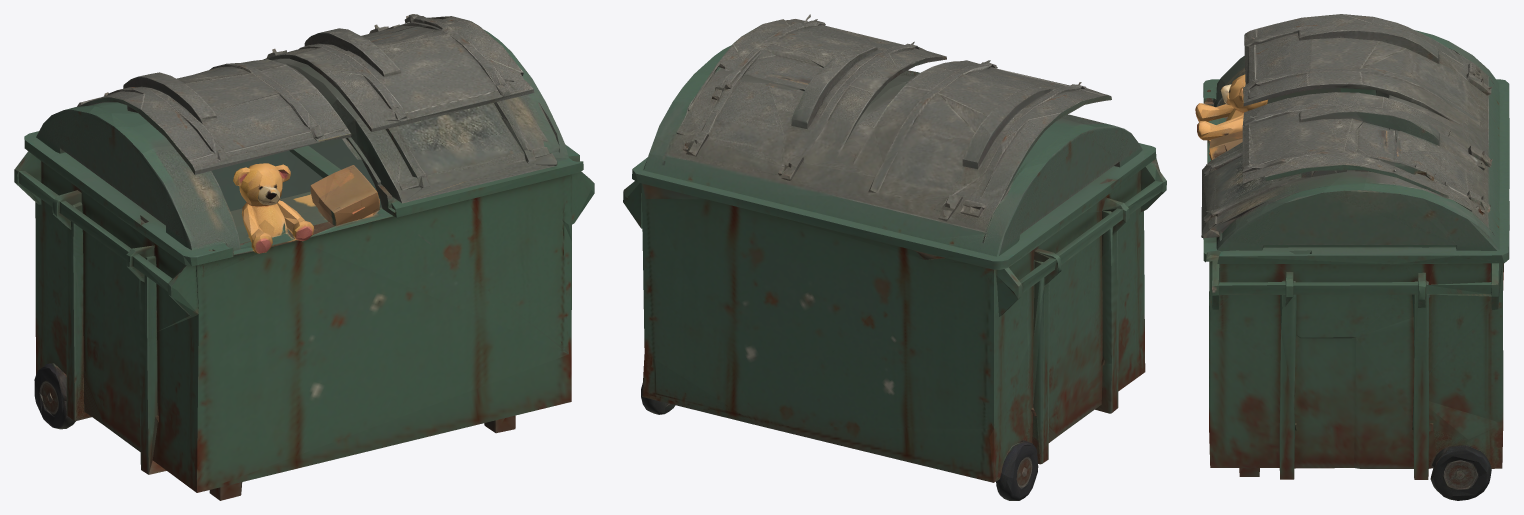
The picture shows the model from 3 angles, left to right: view 1: azimuth 30°, elevation 25°; view 2: azimuth 150°, elevation 25°; view 3: azimuth 270°, elevation 25°; orthographic projection. The views are drawn at different scales.
Bounding box in the file's own units: 1.9 × 1.55 × 1.34.
Materials: 1 (1 with a texture image).
